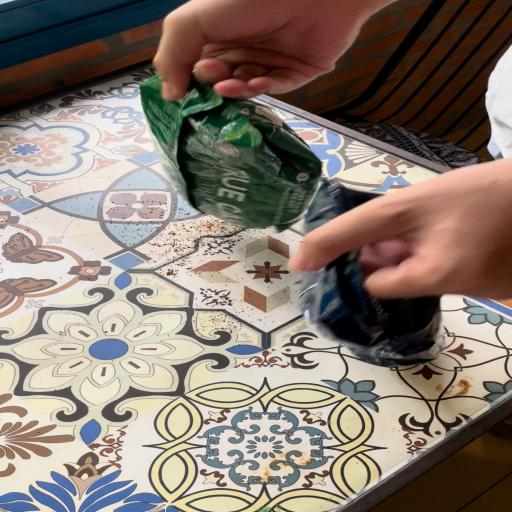cafe_hat: (299, 251, 443, 367), (305, 179, 379, 232)
cafe_xay: (140, 75, 321, 231)
